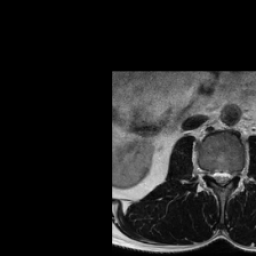CCS_normal: (218, 163, 225, 193)
LFS_stenosis: (231, 162, 239, 184)
LLS_normal: (225, 164, 231, 188)
RFS_normal: (205, 162, 211, 182)
RLS_normal: (211, 164, 218, 186)
